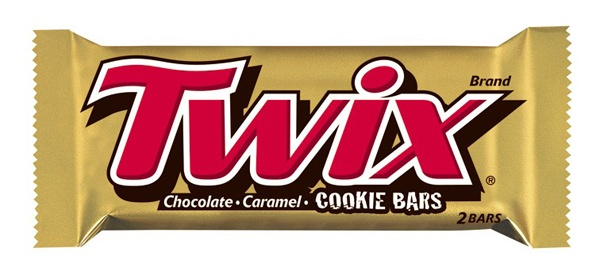grozi_11: (31, 26, 571, 249)
